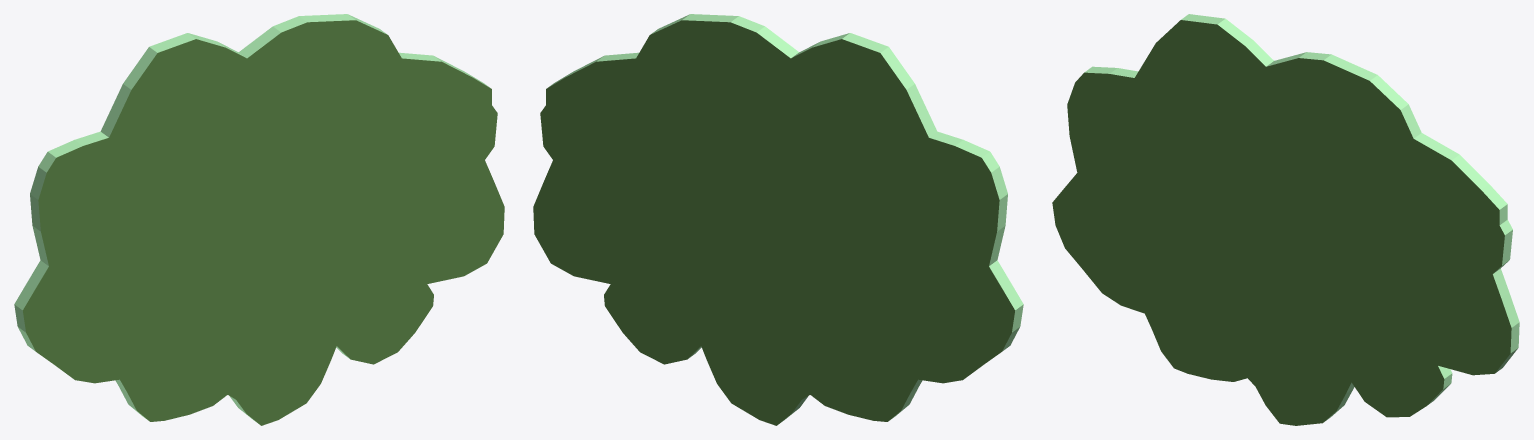
The model's file is Leaves.fbx.
3 renders of one model, left to right at view 1: azimuth 30°, elevation 25°; view 2: azimuth 150°, elevation 25°; view 3: azimuth 330°, elevation 25°, orthographic. The views are drawn at different scales.
Parts seen in each view (by area): view 1: Leaves; view 2: Leaves; view 3: Leaves.
Boxes of the visible parts, x1,y1,x2,y2 form: Leaves: (14, 14, 504, 425); Leaves: (533, 14, 1023, 425); Leaves: (1052, 14, 1519, 425).
Size of the model in its own units: 353 by 282 by 10.79.
